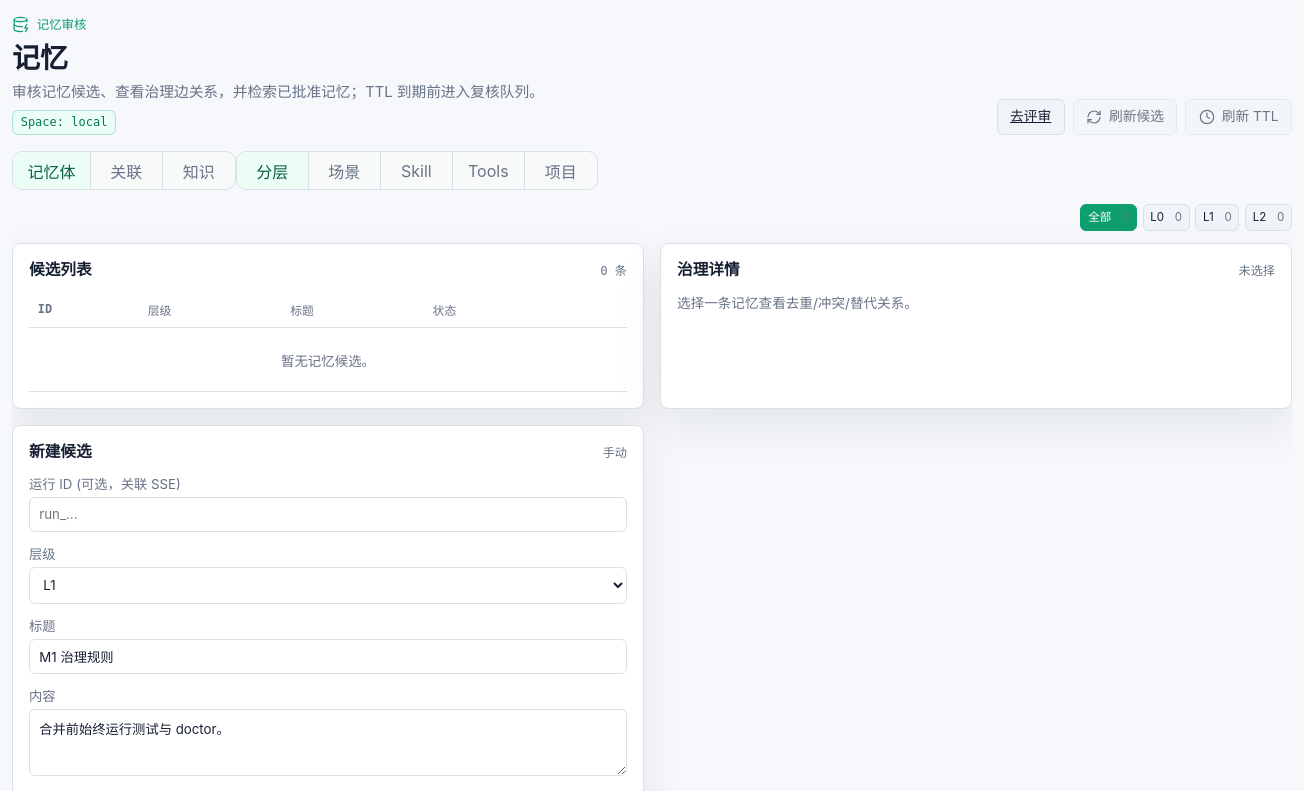
Scenario: MemoryPage › defaults to 记忆体 tab and switches to 知识
The image size is (1304, 791).
Expected: the element with test id "memory-pillar-tabs" is shown, [12, 151, 236, 190]
Expected: the element with test id "memory-perspective" is shown, [236, 151, 598, 190]
Click the tab with test id "memory-tab-knowledge" at (199, 171), box [163, 152, 235, 189]
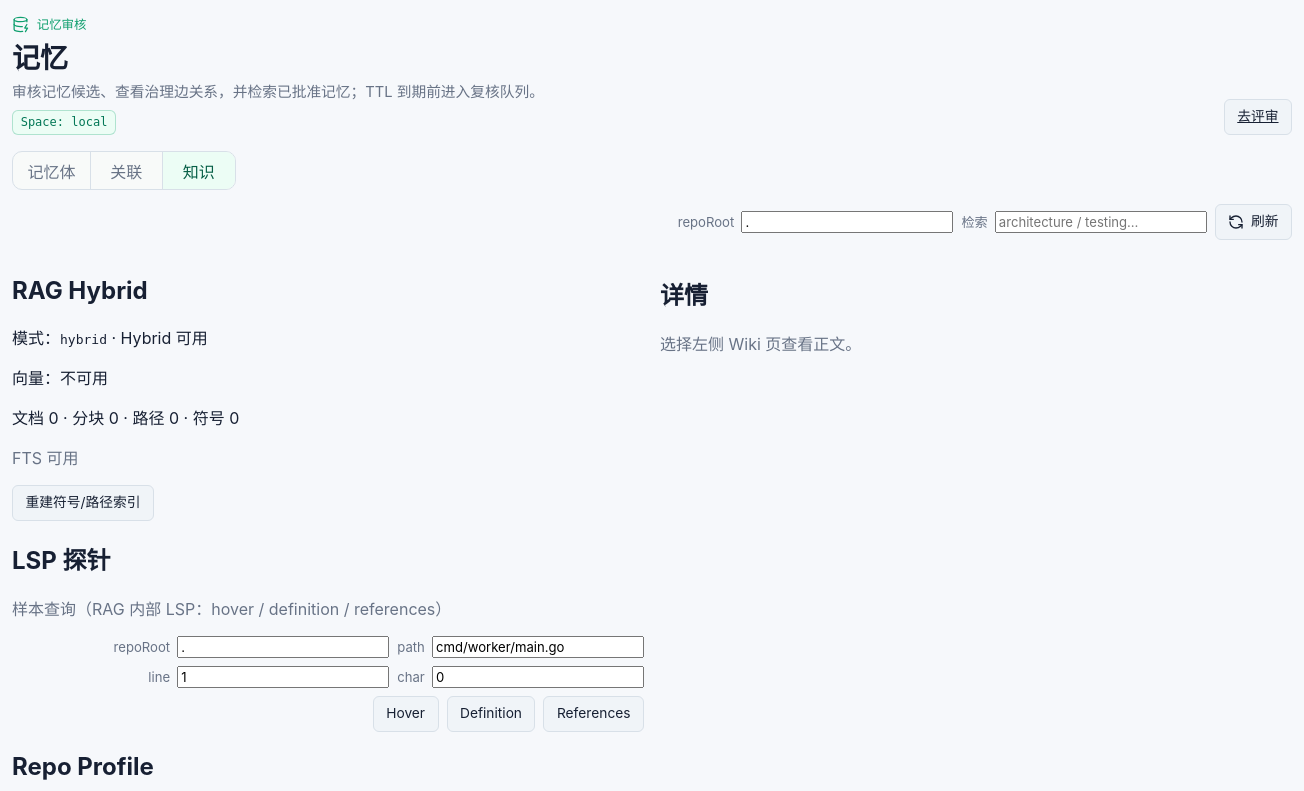
Now the element with test id "memory-perspective" is gone
Now the element with test id "knowledge-rag-hybrid" is shown, box [12, 328, 239, 521]
